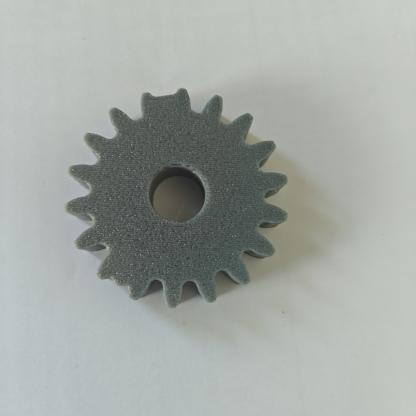defect: (89, 243, 190, 329), (126, 66, 221, 147)
gear: (53, 60, 297, 340)
